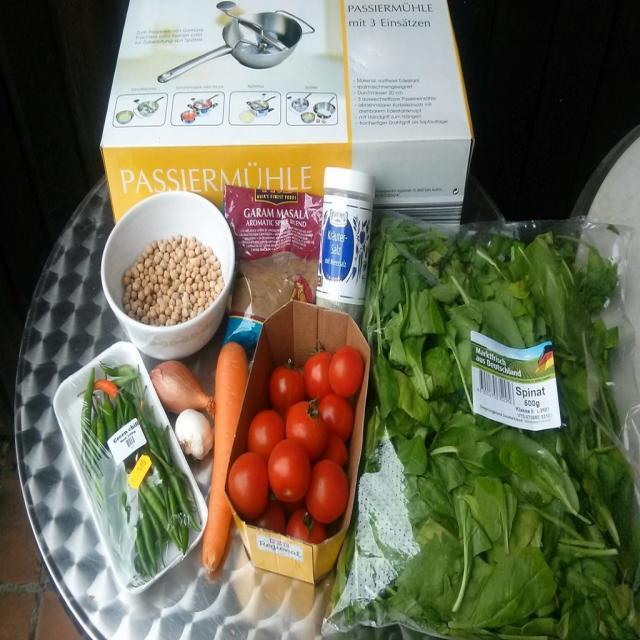Tomato: (228, 340, 364, 542), (262, 443, 310, 509), (326, 345, 366, 397)
